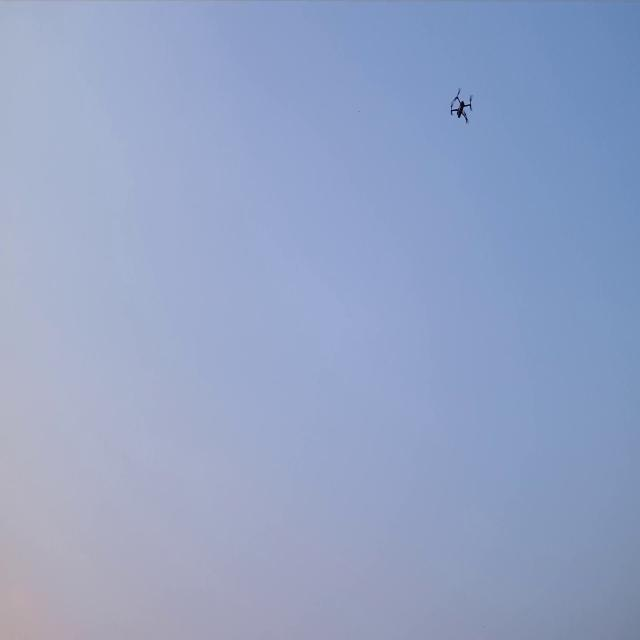UAV: (450, 86, 474, 125)
